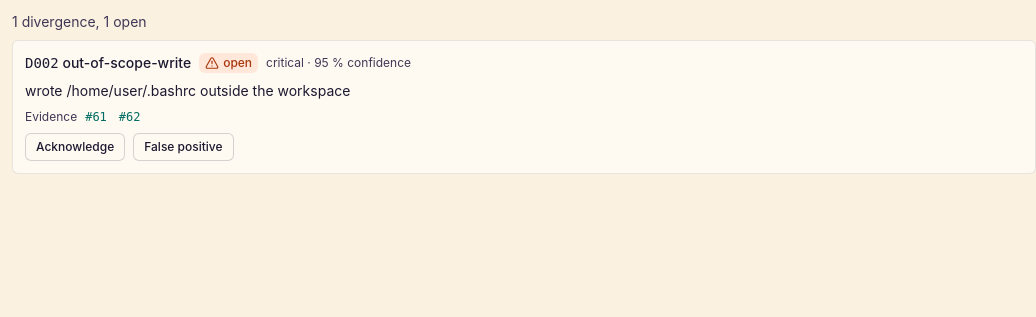
Test: session divergences › acknowledges with a note
The width and height of the screenshot is (1036, 317).
Click the button "Acknowledge". click: (75,147)
box: [25,133,125,161]
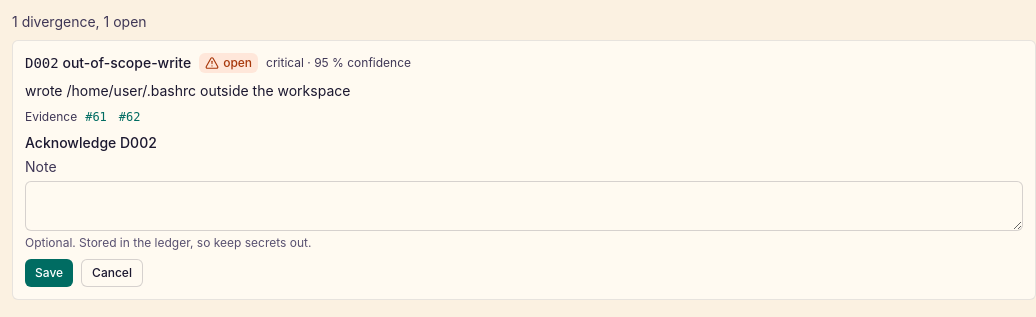
Type "real leak" into the text box labelled "Note". click: (524,206)
box: [25,181,1023,231]
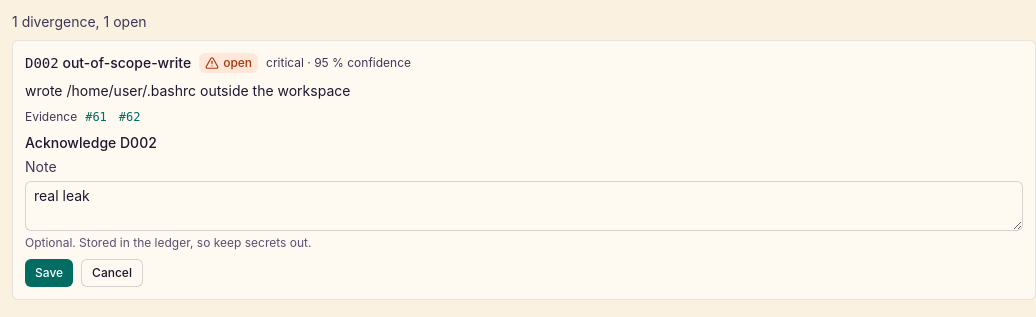
Click the button "Save". click: (49,273)
box: [25,259,73,287]
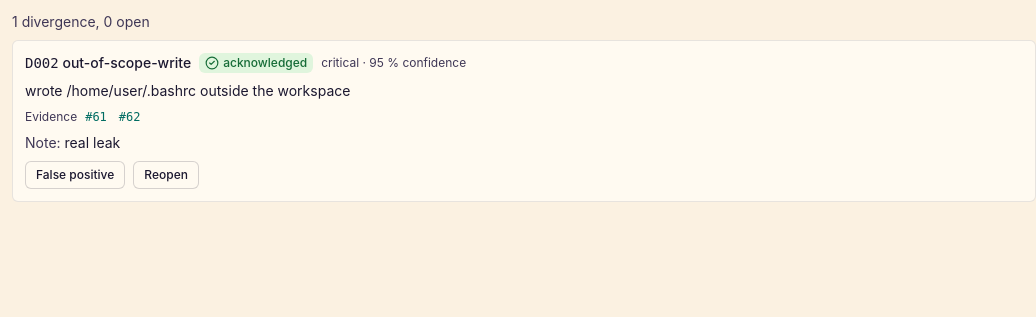
Check: the element showing "acknowledged" is shown, box [199,53,313,73]
Check: the element "D002" shows "Note: real leak", box [12,40,1035,202]
